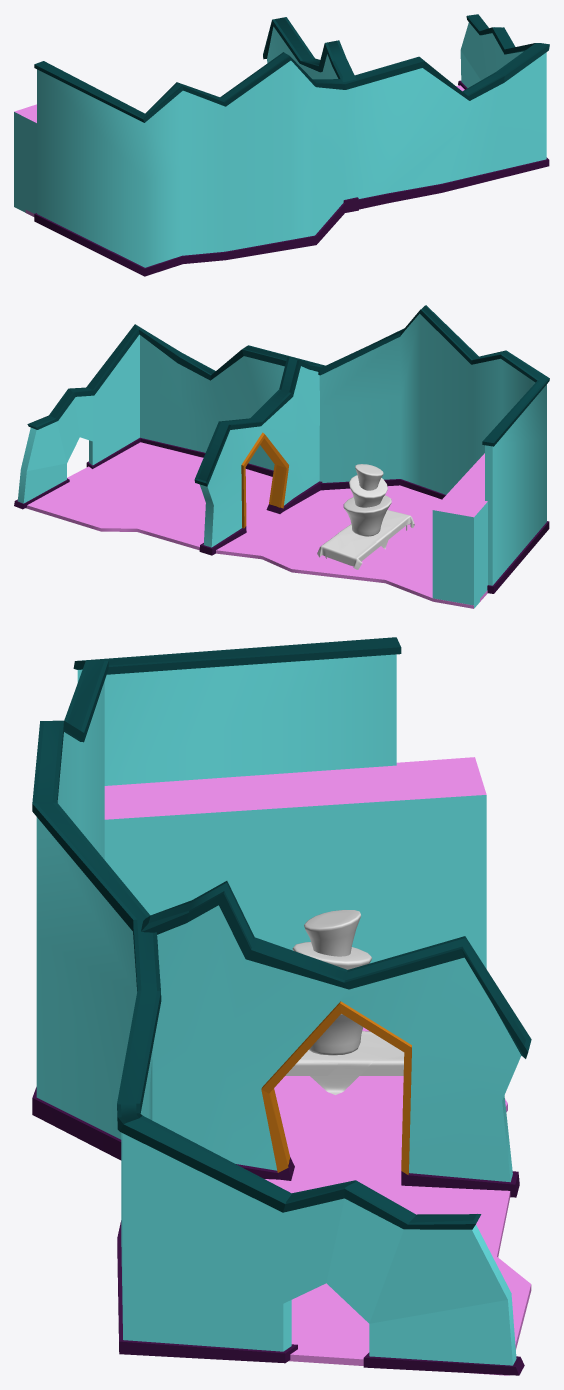
The model's file is Birthday_Puzzle.FBX.
3 views of the same model, one above another, from view 1: azimuth 30°, elevation 25°; view 2: azimuth 150°, elevation 25°; view 3: azimuth 270°, elevation 25° (orthographic). The views are drawn at different scales.
Visible parts, largest first — view 1: Paredes, ParedPuerta, PlataformaDerecha; view 2: Paredes, Suelo, ParedPuerta, PlataformaDerecha, Pastel, Mantel1, Mantel2; view 3: Paredes, ParedPuerta, PlataformaDerecha, Suelo, Pastel, Mantel2, Mantel1.
Boxes of the visible parts, x1=… form: Paredes: x1=34, y1=14, x2=549, y2=276; ParedPuerta: x1=263, y1=17, x2=358, y2=212; PlataformaDerecha: x1=14, y1=104, x2=36, y2=213; Paredes: x1=14, y1=305, x2=549, y2=593; Suelo: x1=25, y1=442, x2=487, y2=608; ParedPuerta: x1=194, y1=357, x2=322, y2=555; PlataformaDerecha: x1=432, y1=453, x2=487, y2=608; Pastel: x1=343, y1=464, x2=391, y2=536; Mantel1: x1=317, y1=510, x2=414, y2=569; Mantel2: x1=338, y1=518, x2=391, y2=549; Paredes: x1=32, y1=637, x2=524, y2=1375; ParedPuerta: x1=141, y1=881, x2=531, y2=1197; PlataformaDerecha: x1=104, y1=757, x2=486, y2=968; Suelo: x1=265, y1=1027, x2=531, y2=1375; Pastel: x1=292, y1=910, x2=371, y2=1055; Mantel2: x1=298, y1=1031, x2=402, y2=1094; Mantel1: x1=285, y1=1031, x2=404, y2=1075.
Size of the model in its own units: 4874 by 2345 by 1929.
